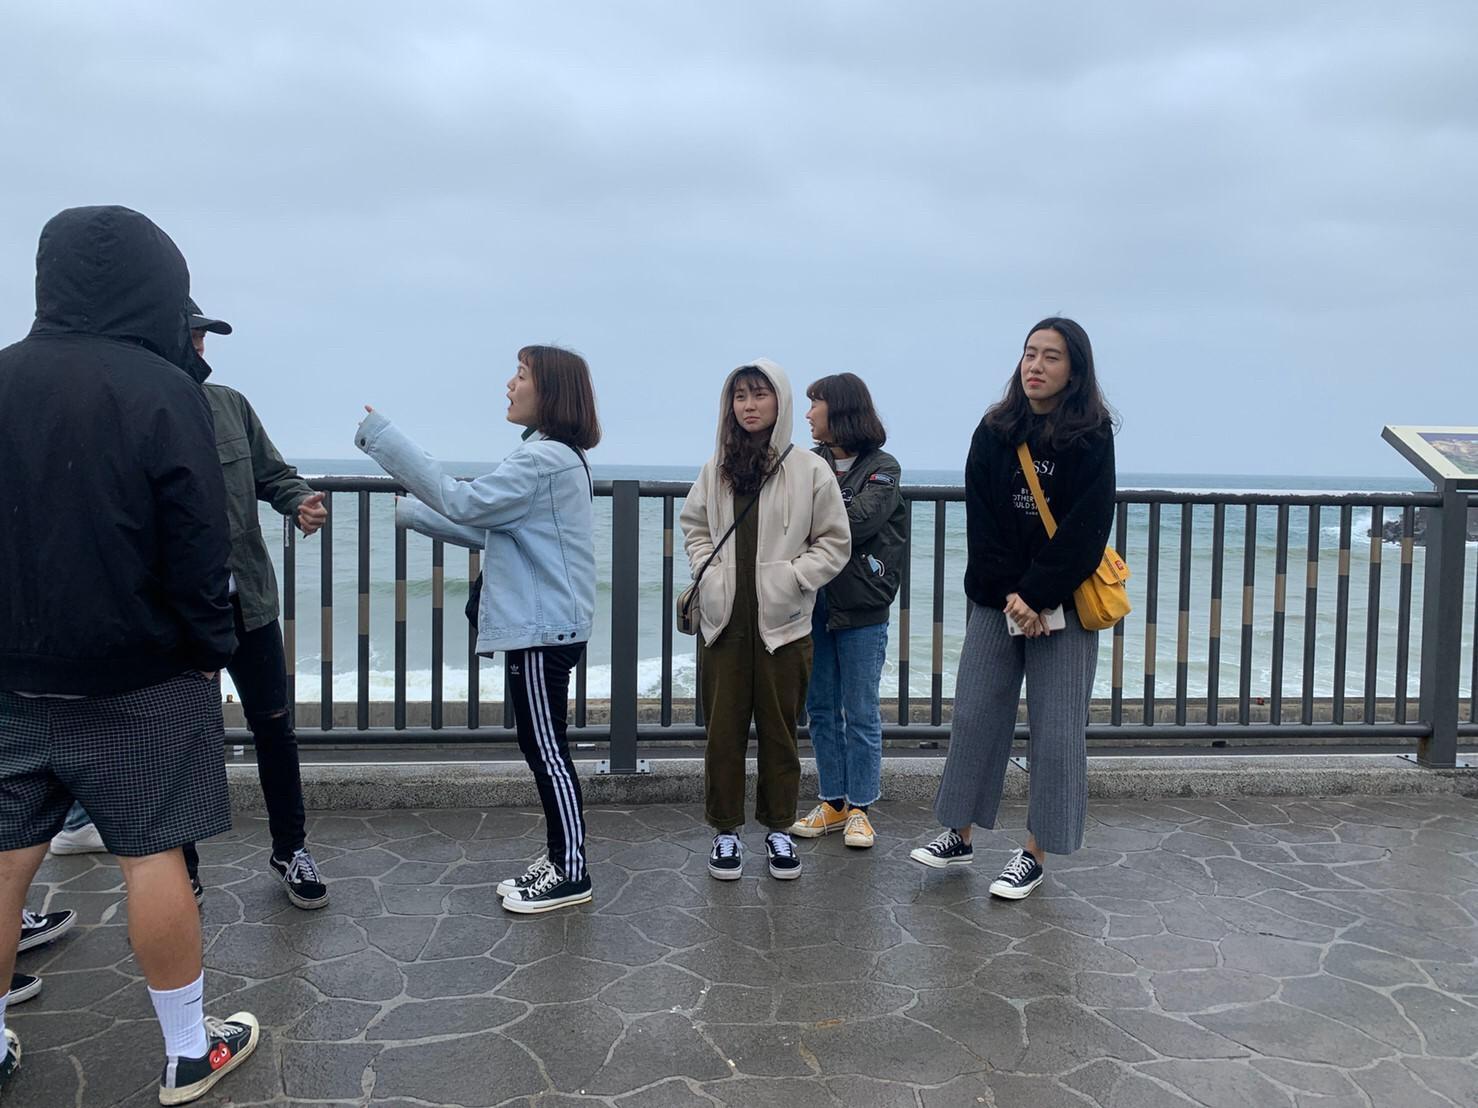people: (8, 213, 258, 1090), (121, 282, 331, 913), (958, 313, 1090, 900), (458, 340, 588, 919), (696, 357, 821, 877), (800, 386, 881, 850)
